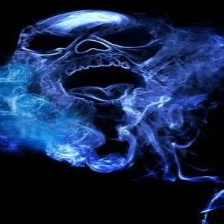smoke: (4, 69, 222, 159)
